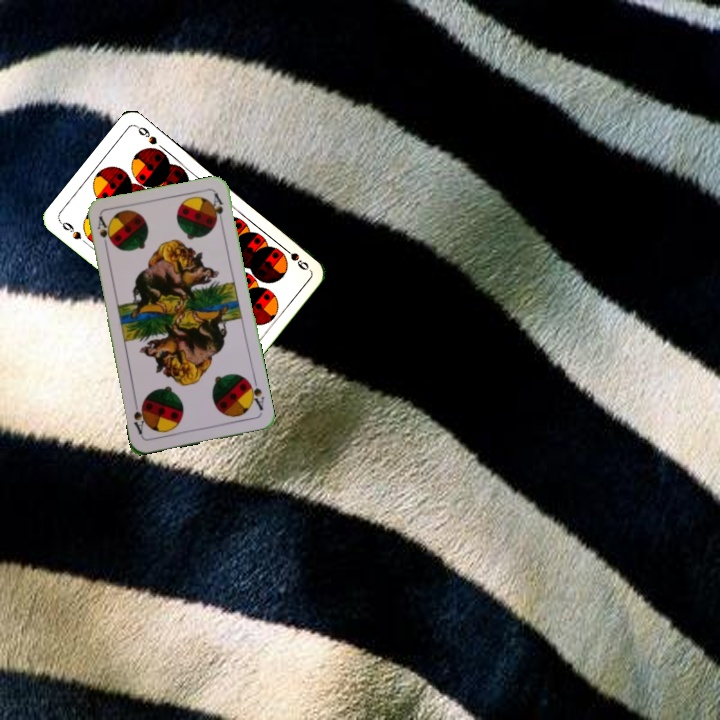S9: (277, 242, 312, 273), (56, 217, 84, 242)
SA: (243, 375, 267, 413), (93, 213, 113, 253)
